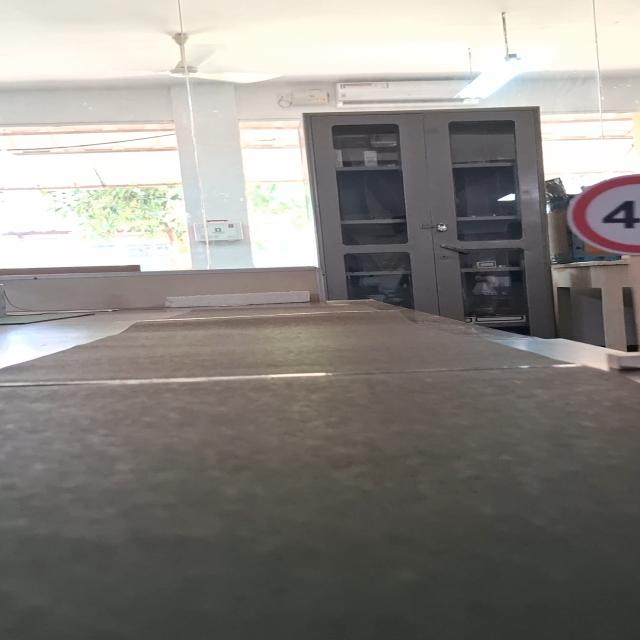Speed40: (564, 169, 640, 260)
